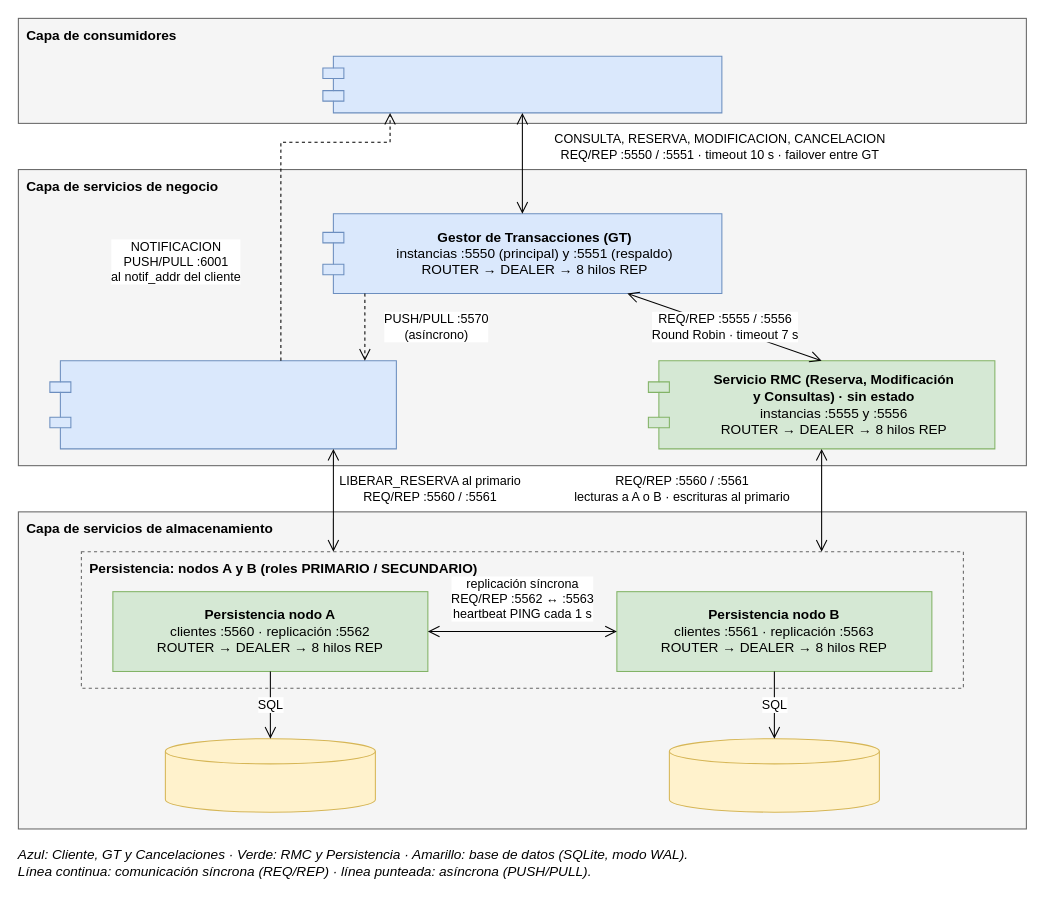
Image size: 1045x898. Some labels were removed from this diagram. Here are the shapes that lost their labels. From the top down, the centre of each, then its label:
the point at 522,84: Clientes (cliente.py y generador de carga) buzón de notificaciones PULL :6001
the point at 222,404: Servicio de Cancelaciones y Notificaciones entrada PULL :5570
the point at 269,775: srb_A.db SQLite · modo WAL
the point at 773,775: srb_B.db SQLite · modo WAL
